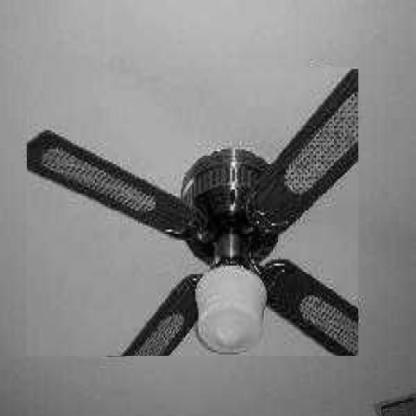ceiling-fan: (27, 67, 359, 356)
